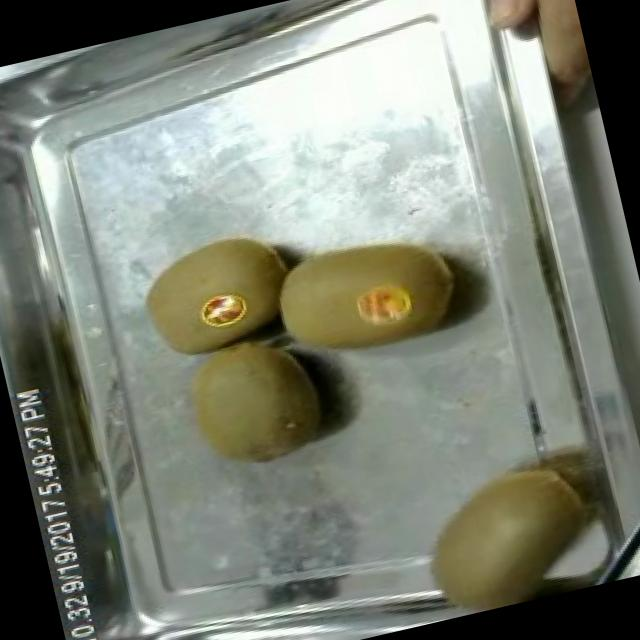Fruit: (253, 206, 480, 384), (401, 442, 614, 622), (165, 314, 342, 484), (123, 212, 310, 360)
